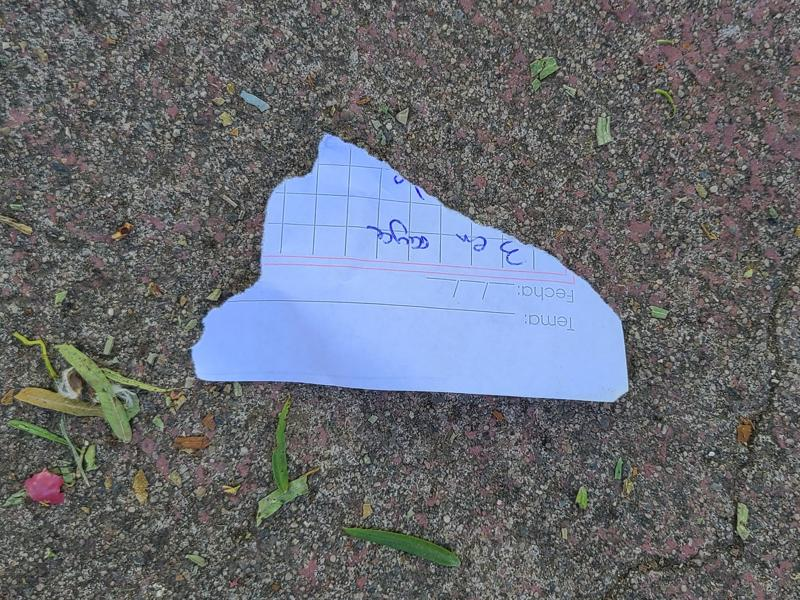papel: (191, 135, 631, 405)
